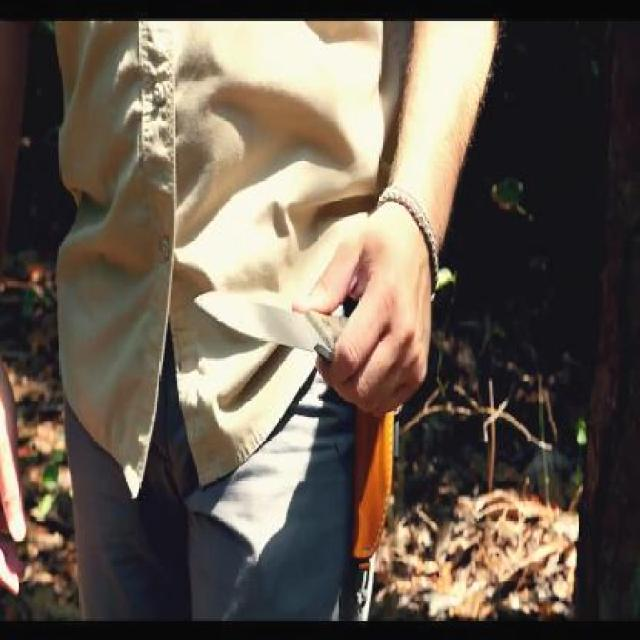knife: (188, 263, 410, 419)
